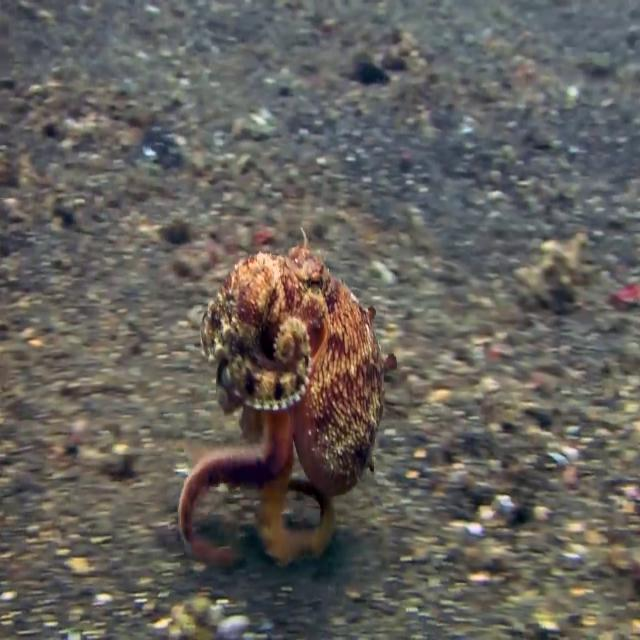octopus: (156, 226, 390, 588)
